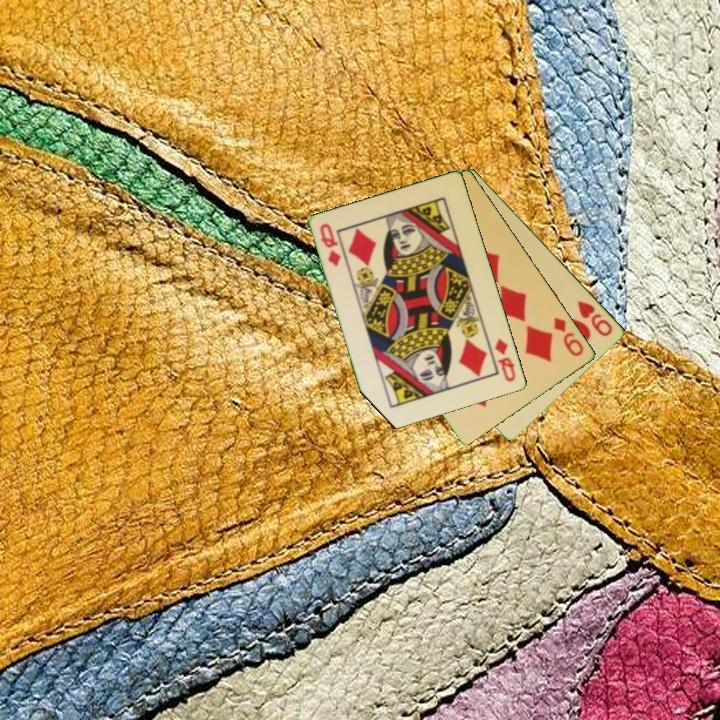9d: (550, 314, 587, 360)
9h: (574, 297, 616, 339)
Qd: (492, 335, 519, 385), (317, 220, 344, 269)
